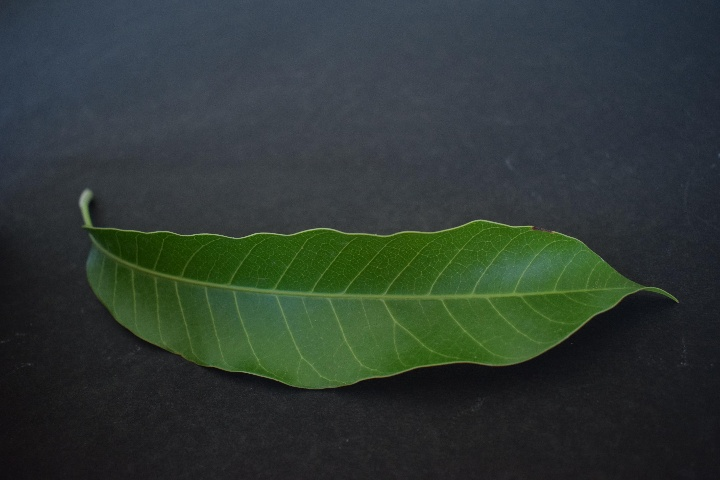healthy: (80, 216, 629, 379)
